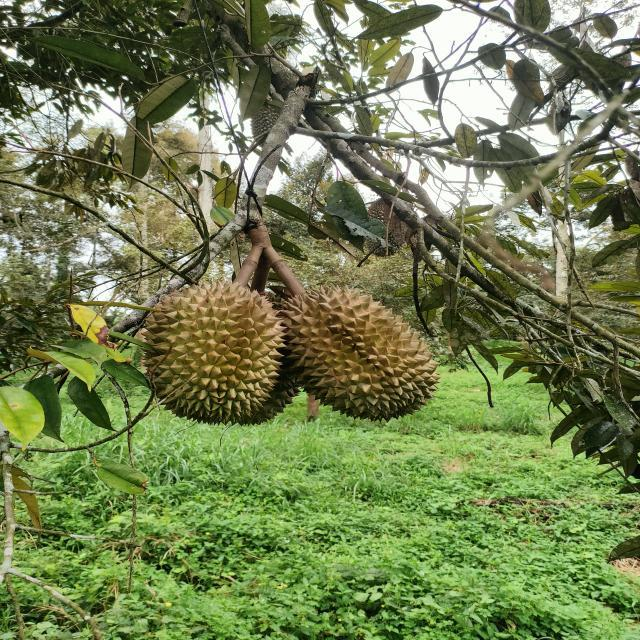mature: (272, 286, 442, 422), (140, 284, 290, 430)
